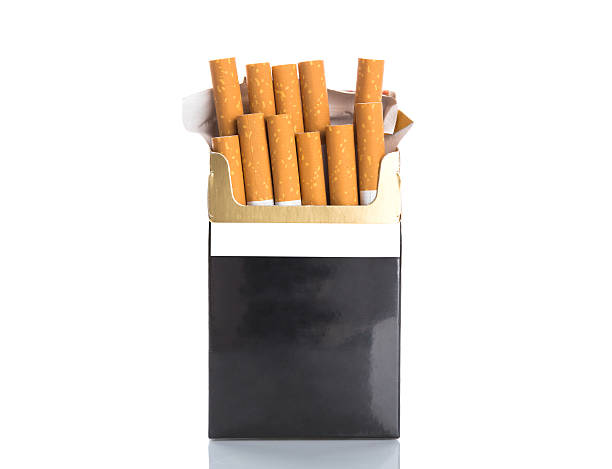cigarette: (181, 37, 416, 441), (235, 112, 274, 206), (267, 113, 302, 206), (207, 54, 246, 136), (355, 102, 384, 205), (325, 123, 359, 205), (210, 135, 247, 205), (295, 132, 327, 206), (298, 58, 330, 131), (272, 63, 304, 133), (245, 60, 276, 115), (355, 56, 384, 102)
